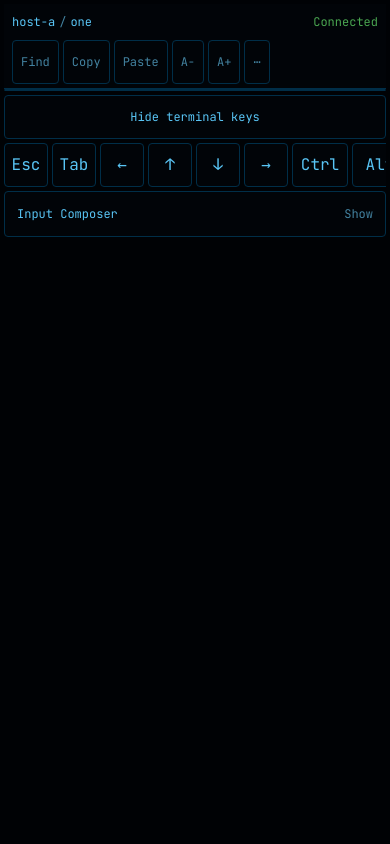
Terminal workspace controls › exposes 44px touch controls and a collapsible toolbar
This screenshot has width=390, height=844.
Click the button named "Hide terminal keys" at {"x": 195, "y": 117}, box [4,95,386,139]
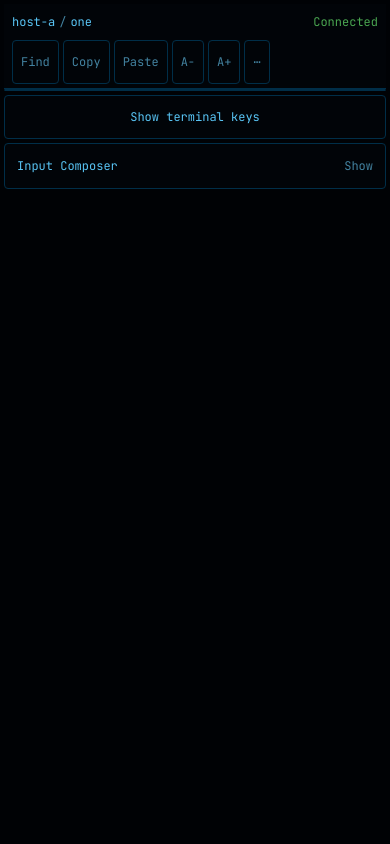
Expected: the button named "Show terminal keys" is collapsed, [4,95,386,139]
